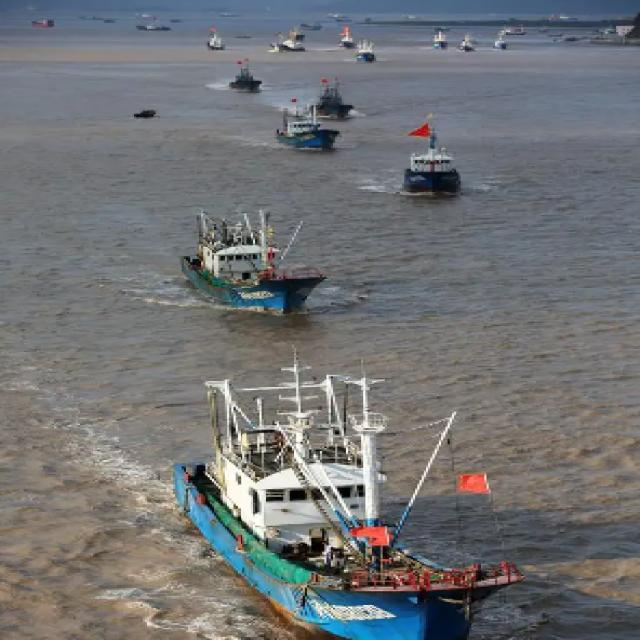fishing boat: (167, 350, 526, 640), (178, 205, 322, 313), (398, 110, 467, 196), (265, 98, 328, 144), (304, 76, 360, 115), (224, 55, 263, 96), (266, 25, 309, 52), (200, 26, 231, 49), (131, 21, 181, 33), (501, 20, 531, 38), (423, 29, 448, 50), (27, 13, 58, 29), (352, 41, 376, 61), (457, 31, 476, 56), (492, 25, 506, 56), (340, 24, 353, 44)
